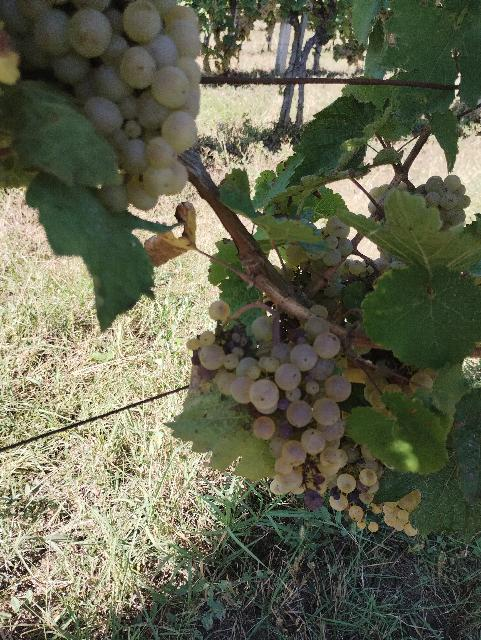grapes: (0, 0, 201, 199), (190, 324, 384, 521)
